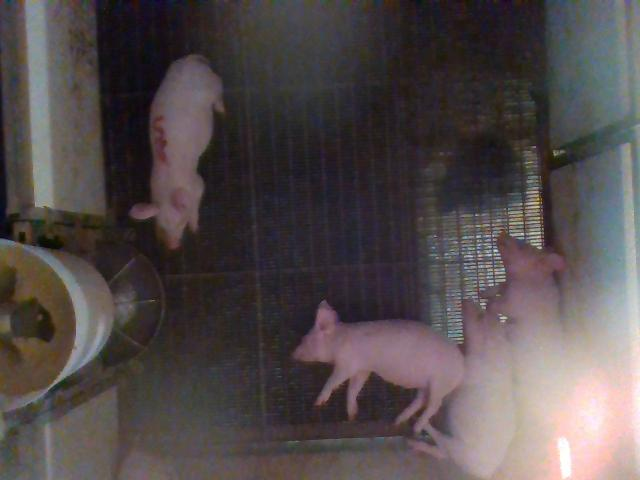pig-3: (129, 55, 224, 249)
